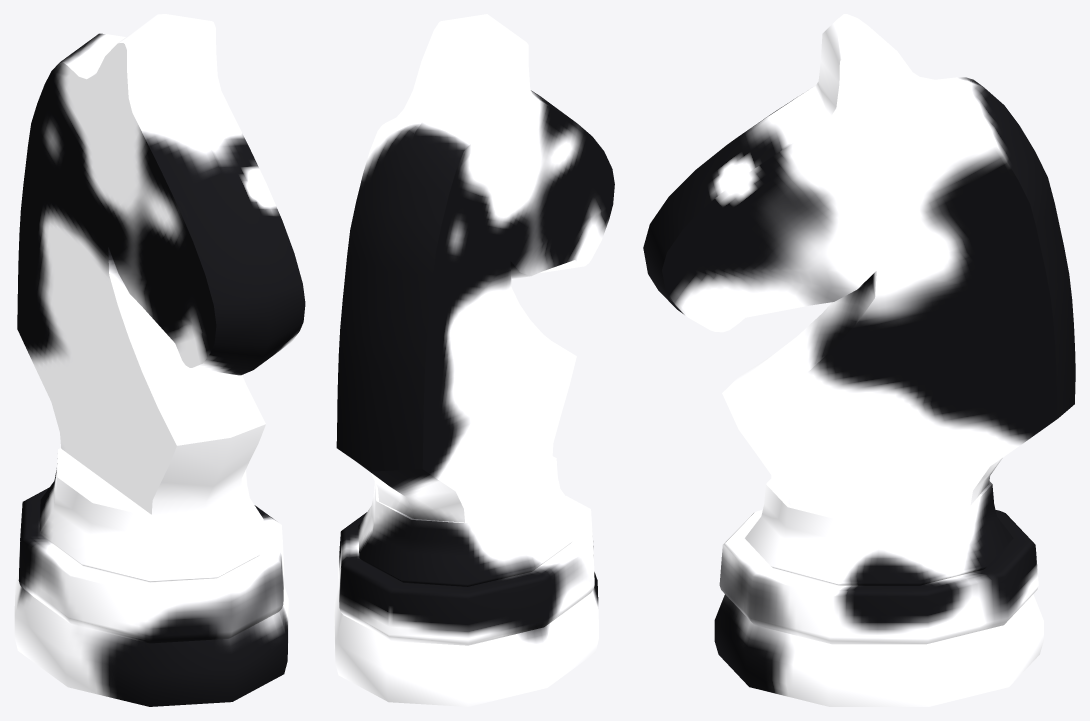
File: item-1-7.glb
The picture shows the model from 3 angles, left to right: view 1: azimuth 30°, elevation 25°; view 2: azimuth 150°, elevation 25°; view 3: azimuth 270°, elevation 25°; orthographic projection. The views are drawn at different scales.
Parts seen in each view (by area): view 1: BlackHorse; view 2: BlackHorse; view 3: BlackHorse.
Boxes of the visible parts, <box> form: BlackHorse: <box>14,14,305,706</box>; BlackHorse: <box>334,14,614,706</box>; BlackHorse: <box>643,14,1075,706</box>.
Bounding box in the file's own units: 0.0718 × 0.1965 × 0.1211.
Materials: 1 (1 with a texture image).
